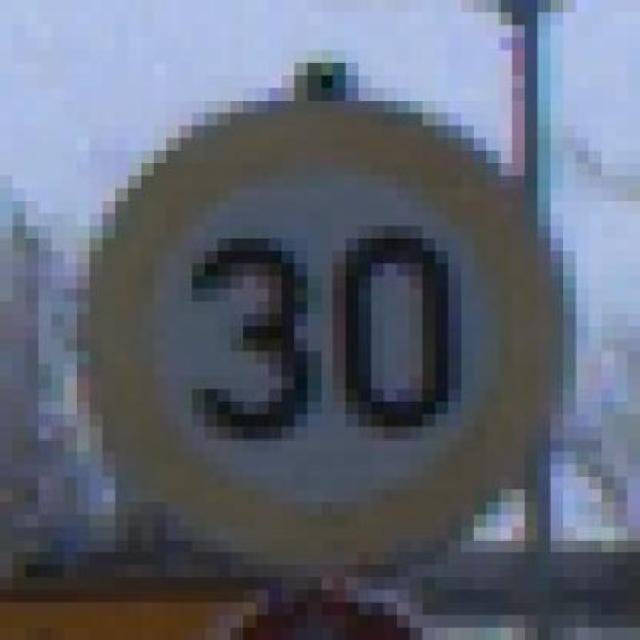Speed Limit 30 KMPh: (38, 62, 614, 578)
